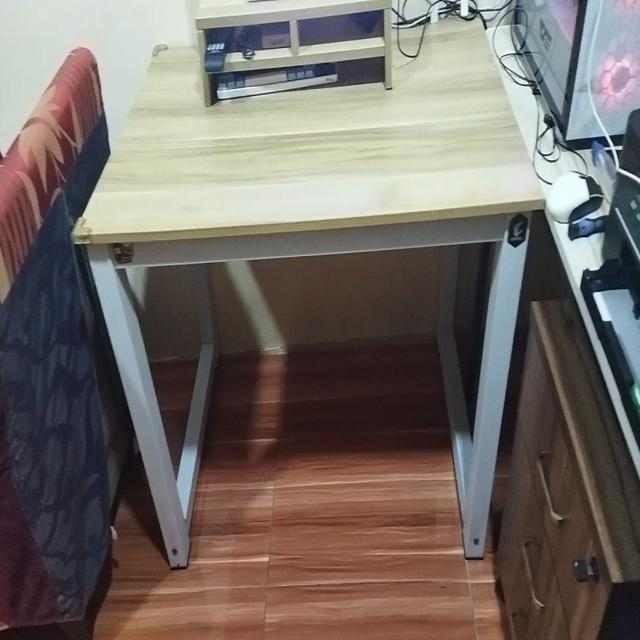table: (90, 19, 538, 571)
